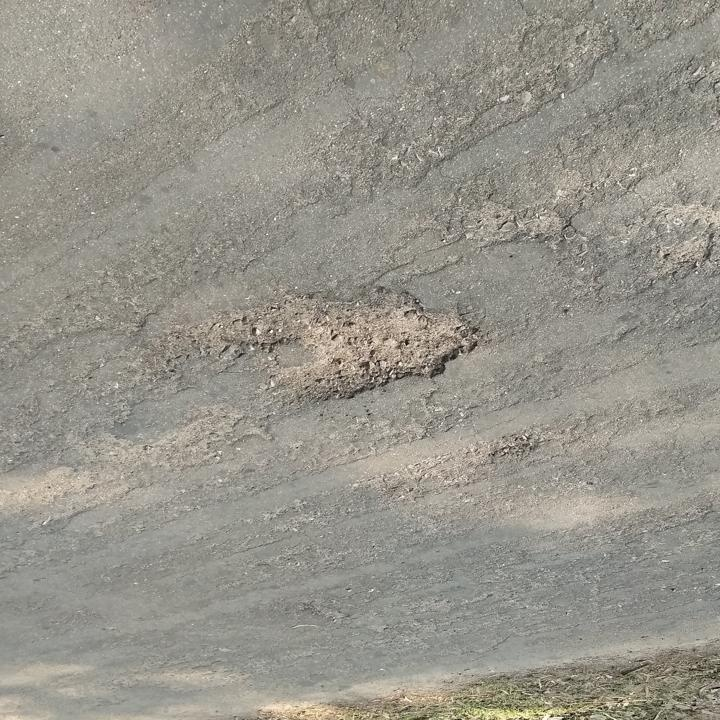pothole: (202, 284, 480, 409)
